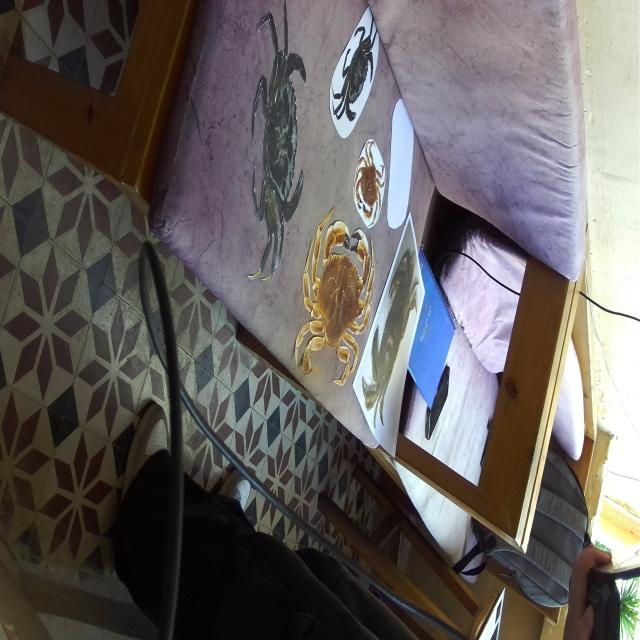European_Green_Crab: (247, 0, 308, 287), (323, 4, 393, 135)
